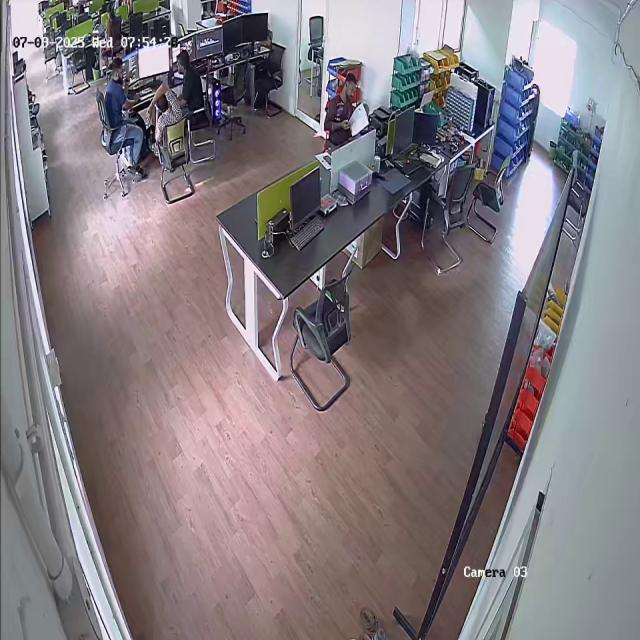person: (98, 57, 145, 181), (172, 51, 212, 130), (323, 73, 358, 143)
